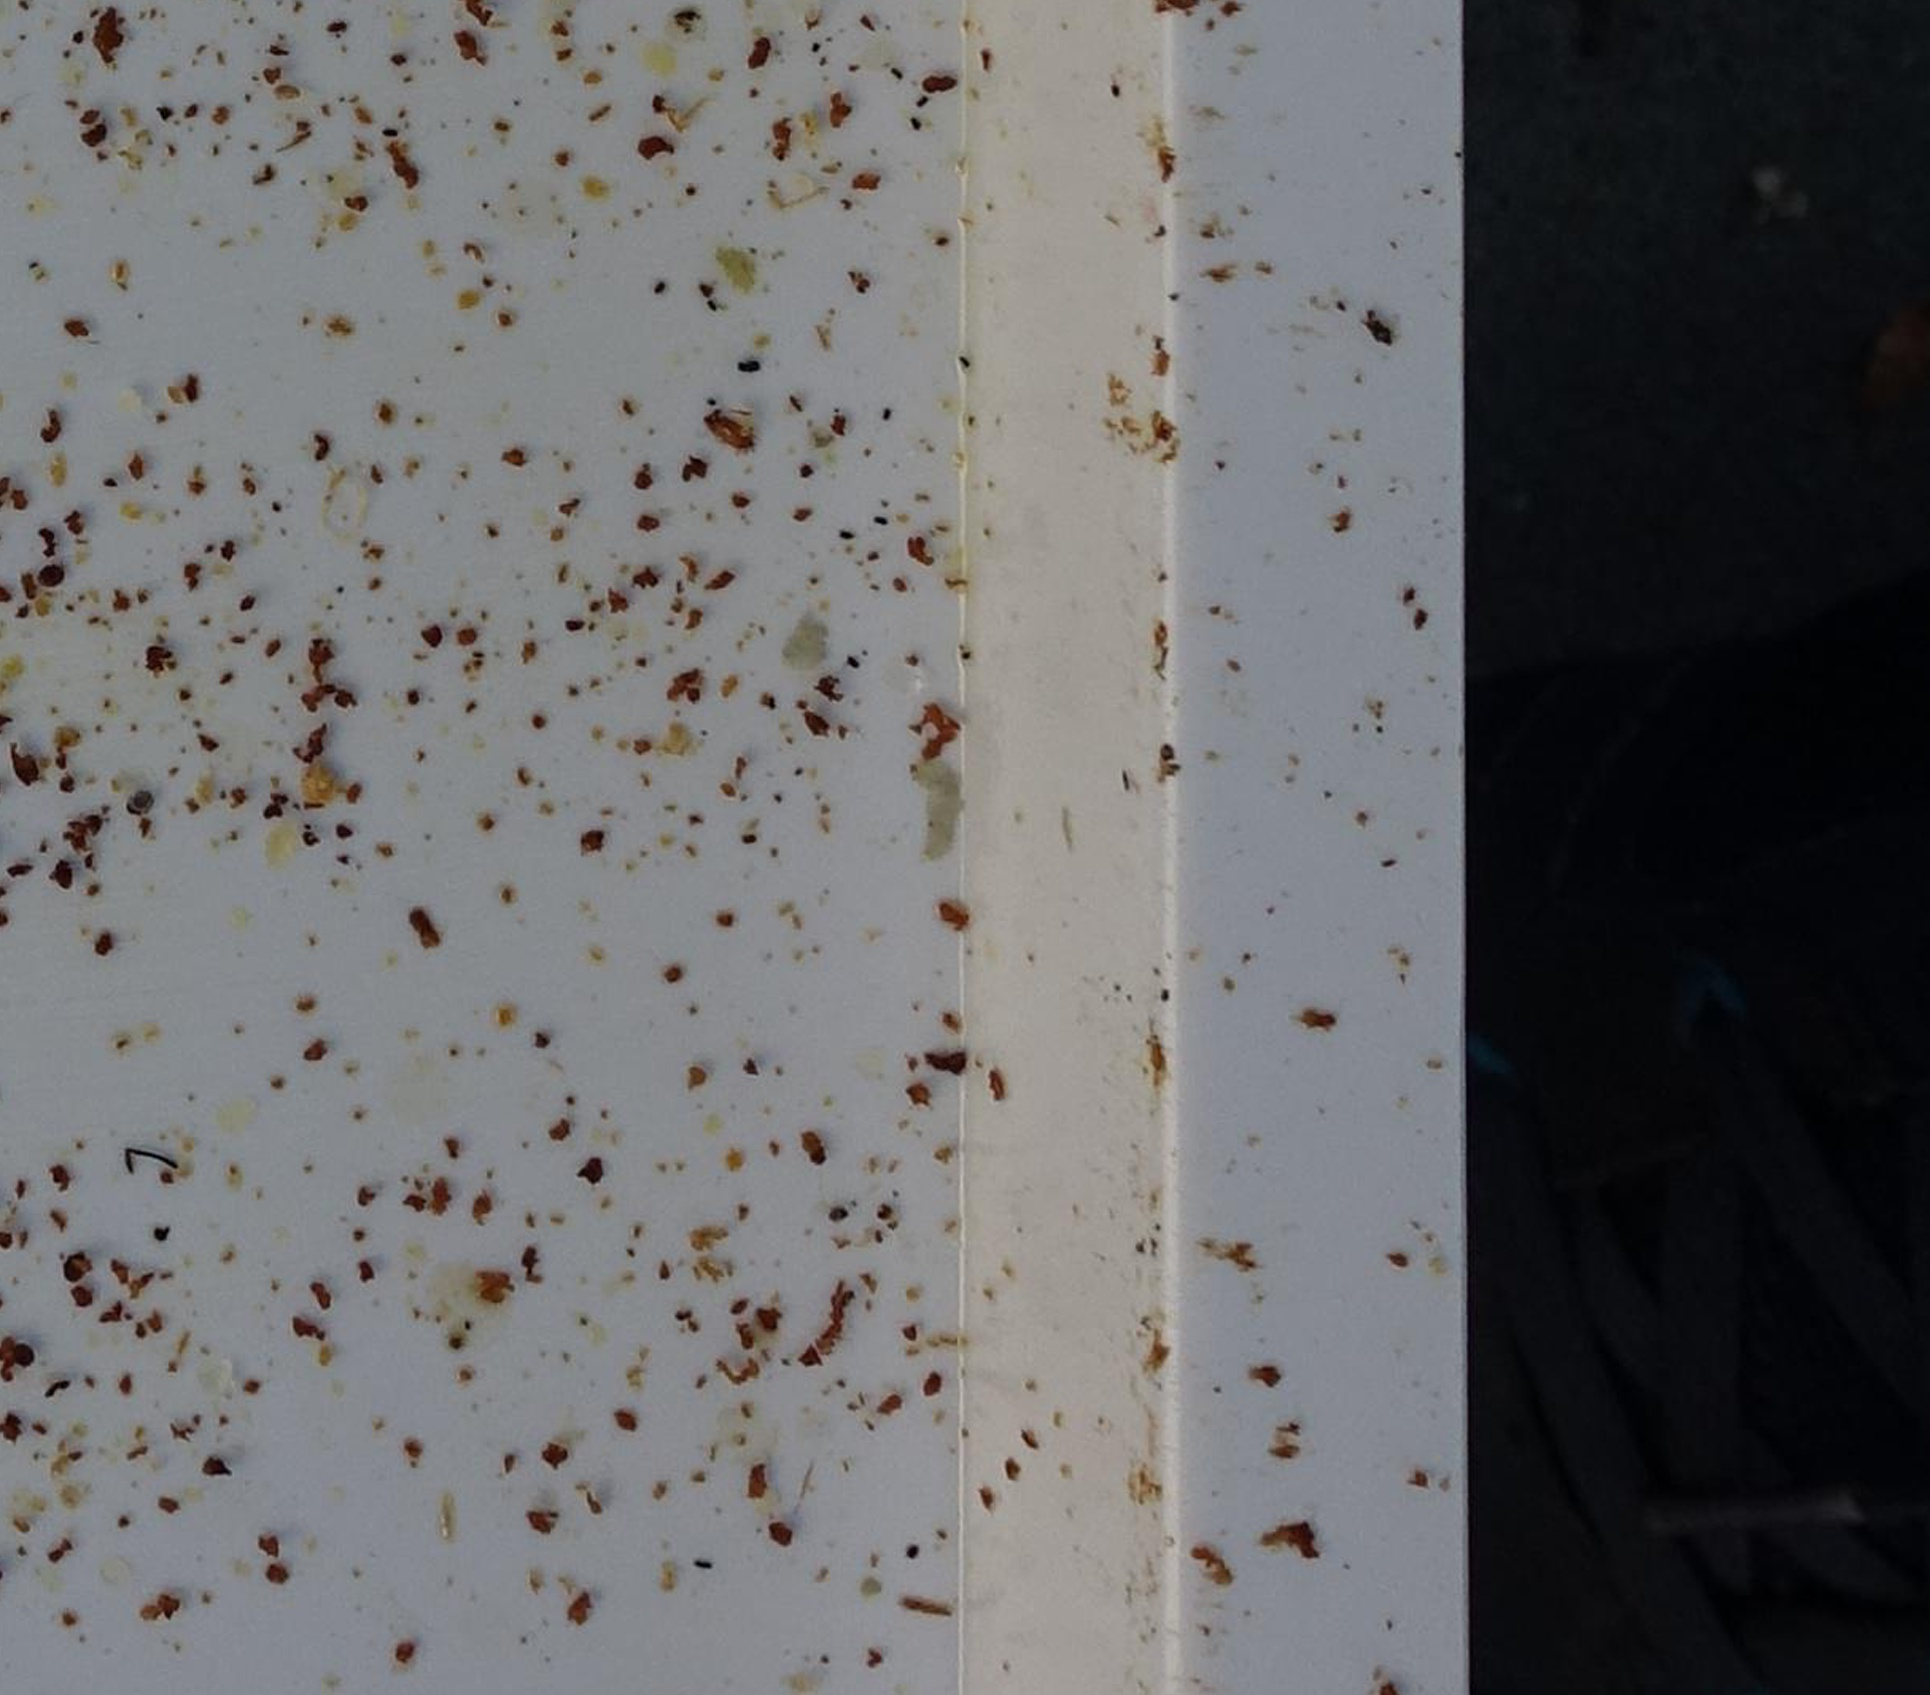Varroa: (41, 555, 67, 587), (53, 1255, 79, 1282), (11, 1334, 34, 1357), (131, 789, 153, 812)
